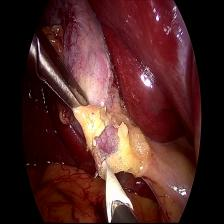Grasper: (26, 26, 92, 120)
Hook: (92, 161, 136, 222)
